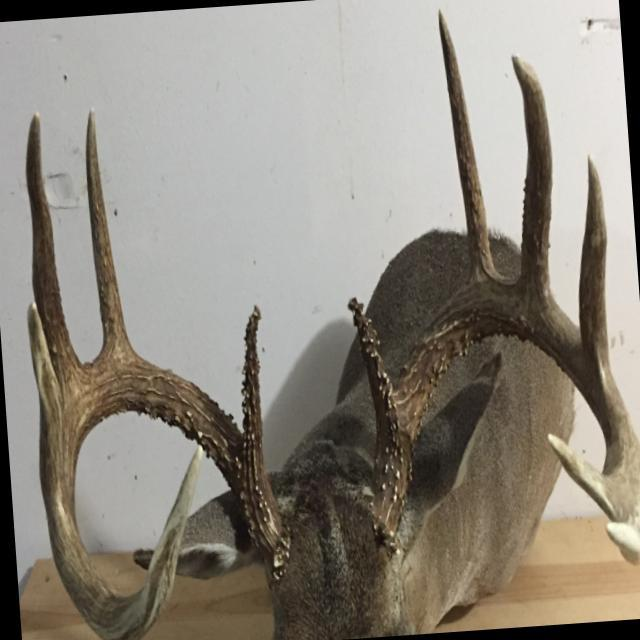L-F: (369, 281, 640, 559)
L-G1: (346, 296, 401, 457)
L-G2: (438, 9, 501, 288)
L-G3: (509, 52, 554, 310)
L-G4: (578, 152, 617, 385)
R-F: (40, 357, 290, 640)
R-G1: (240, 303, 265, 483)
R-G2: (84, 104, 138, 357)
R-G3: (23, 108, 89, 395)
